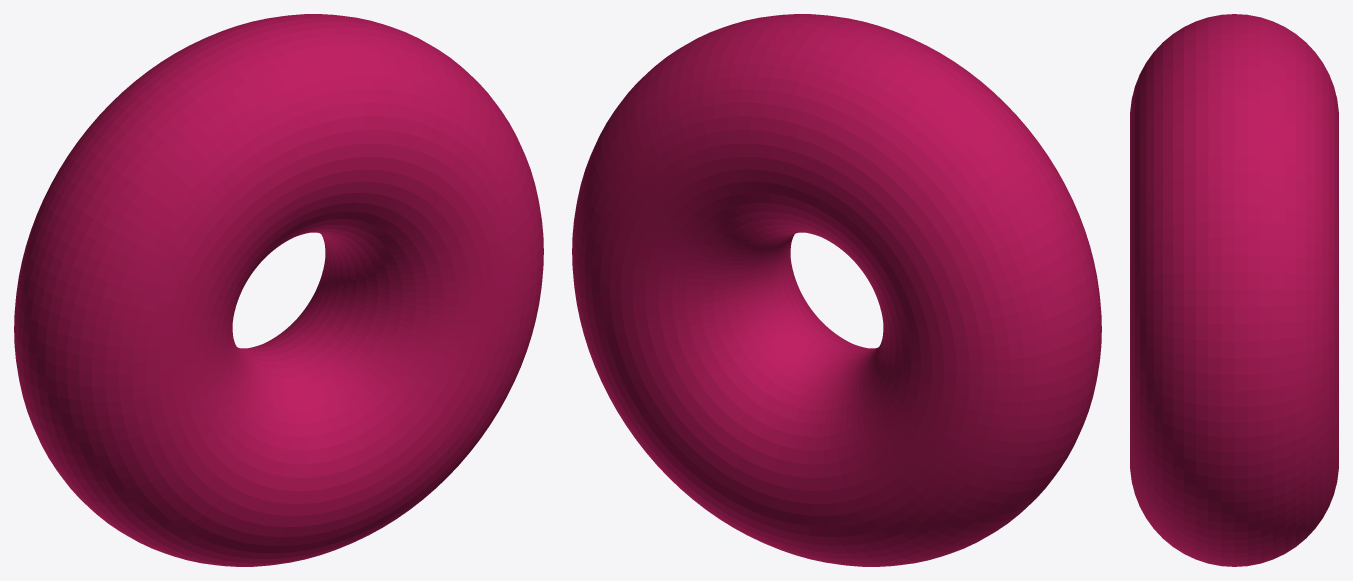
3 views of the same model, side by side, from view 1: azimuth 30°, elevation 25°; view 2: azimuth 150°, elevation 25°; view 3: azimuth 270°, elevation 25° (orthographic). The views are drawn at different scales.
Parts seen in each view (by area): view 1: world; view 2: world; view 3: world.
Part boxes in pixels (bbox=[...]): world: bbox=[14, 14, 543, 566]; world: bbox=[572, 14, 1101, 566]; world: bbox=[1130, 14, 1338, 566].
Bounding box in the file's own units: 25.73 × 25.73 × 9.71.
